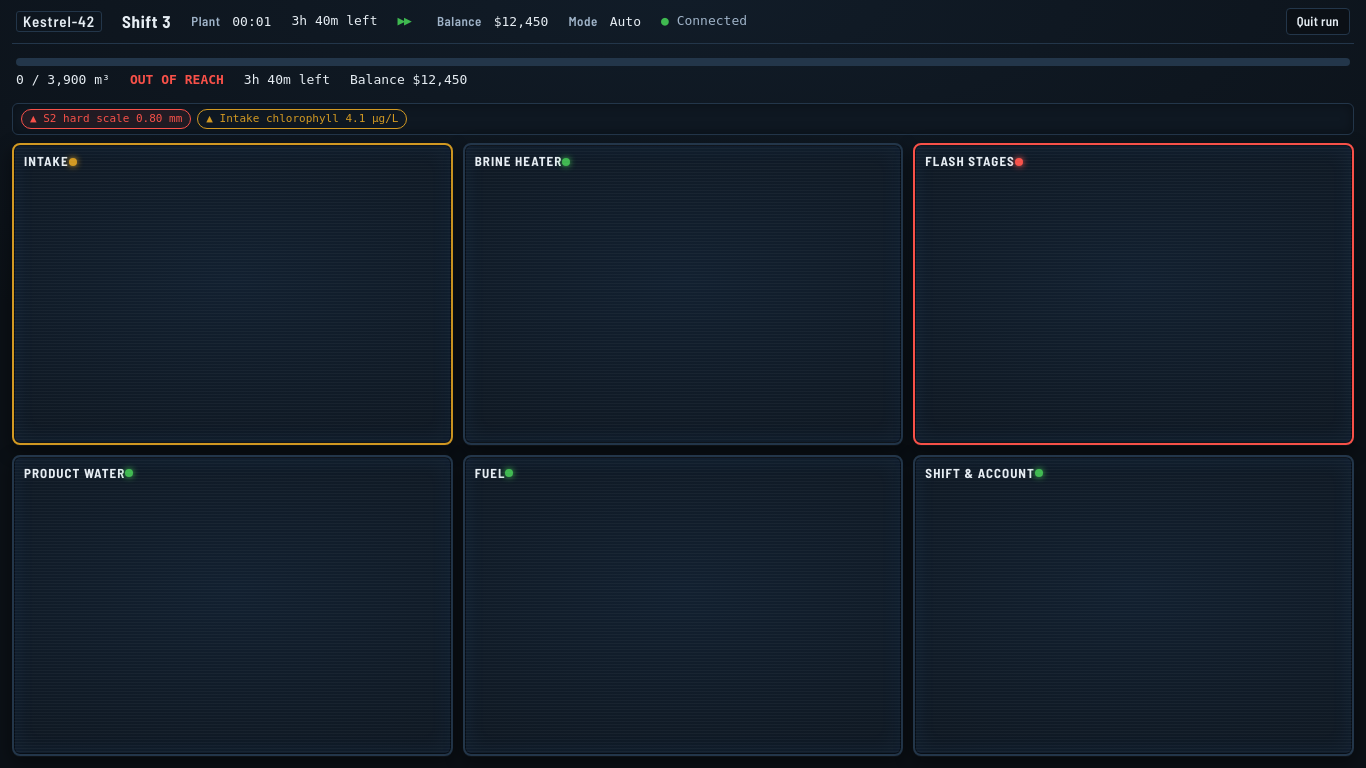
ControlRoom › quit asks for confirmation and sends quitGame once
Click the button "Quit run". click: (1318, 21)
box: [1286,8,1350,35]
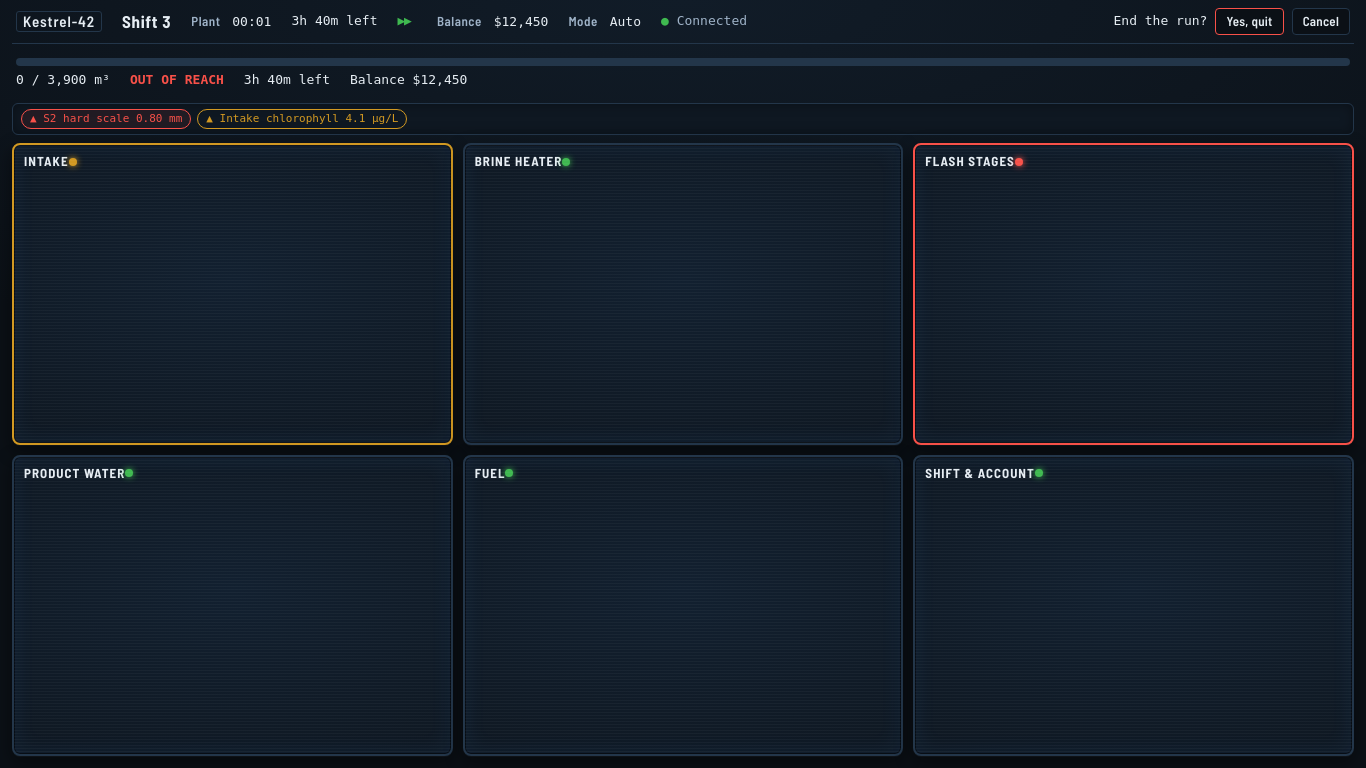
Click the button "Cancel". click: (1321, 21)
box: [1292,8,1350,35]
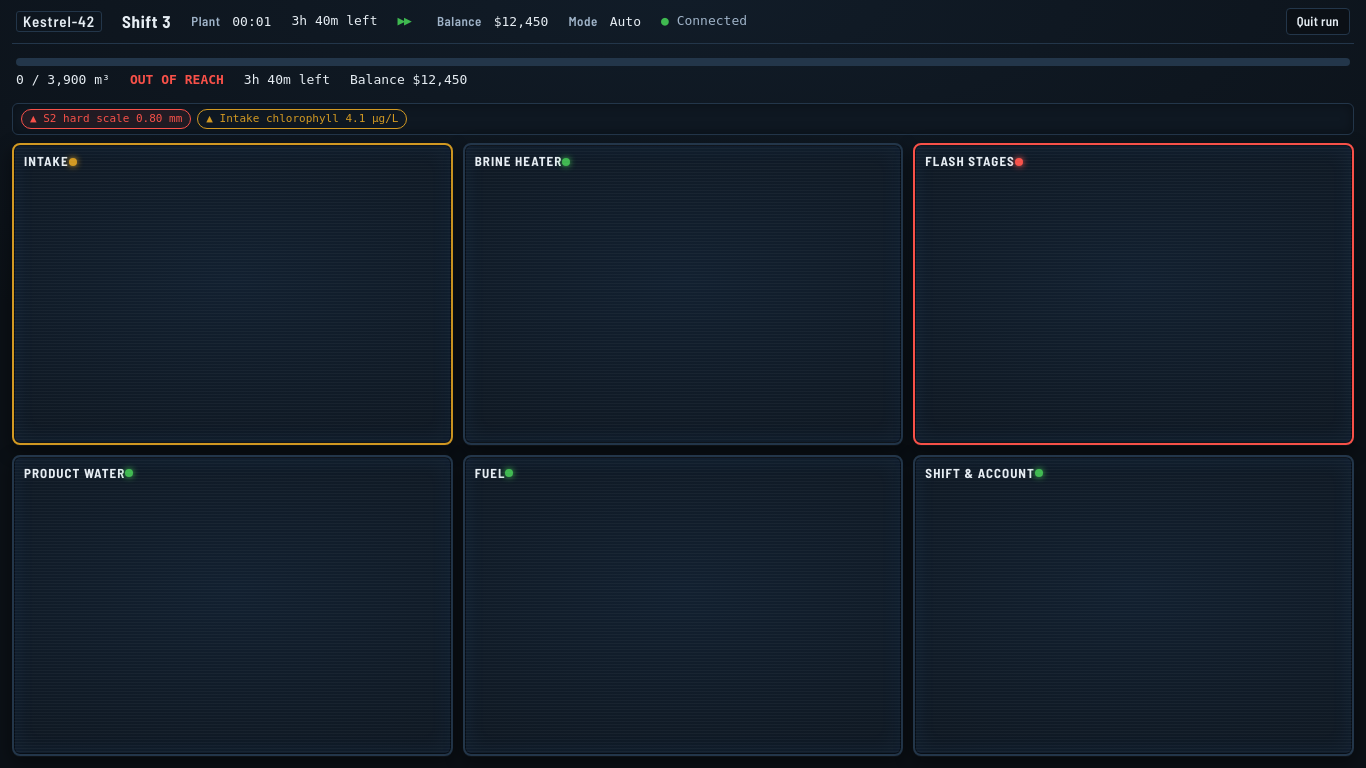
Click the button "Quit run". click: (1318, 21)
box: [1286,8,1350,35]
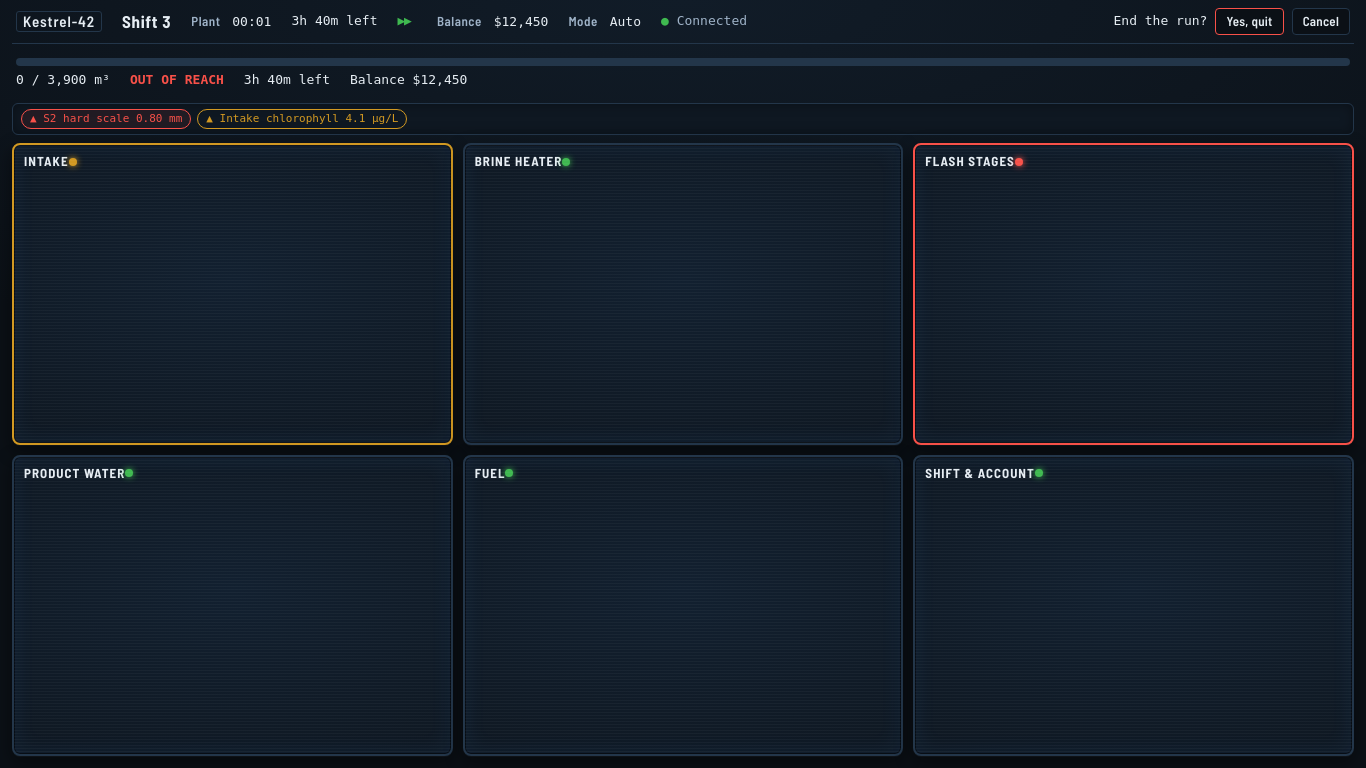
Click the button "Yes, quit". click: (1250, 21)
box: [1215,8,1284,35]
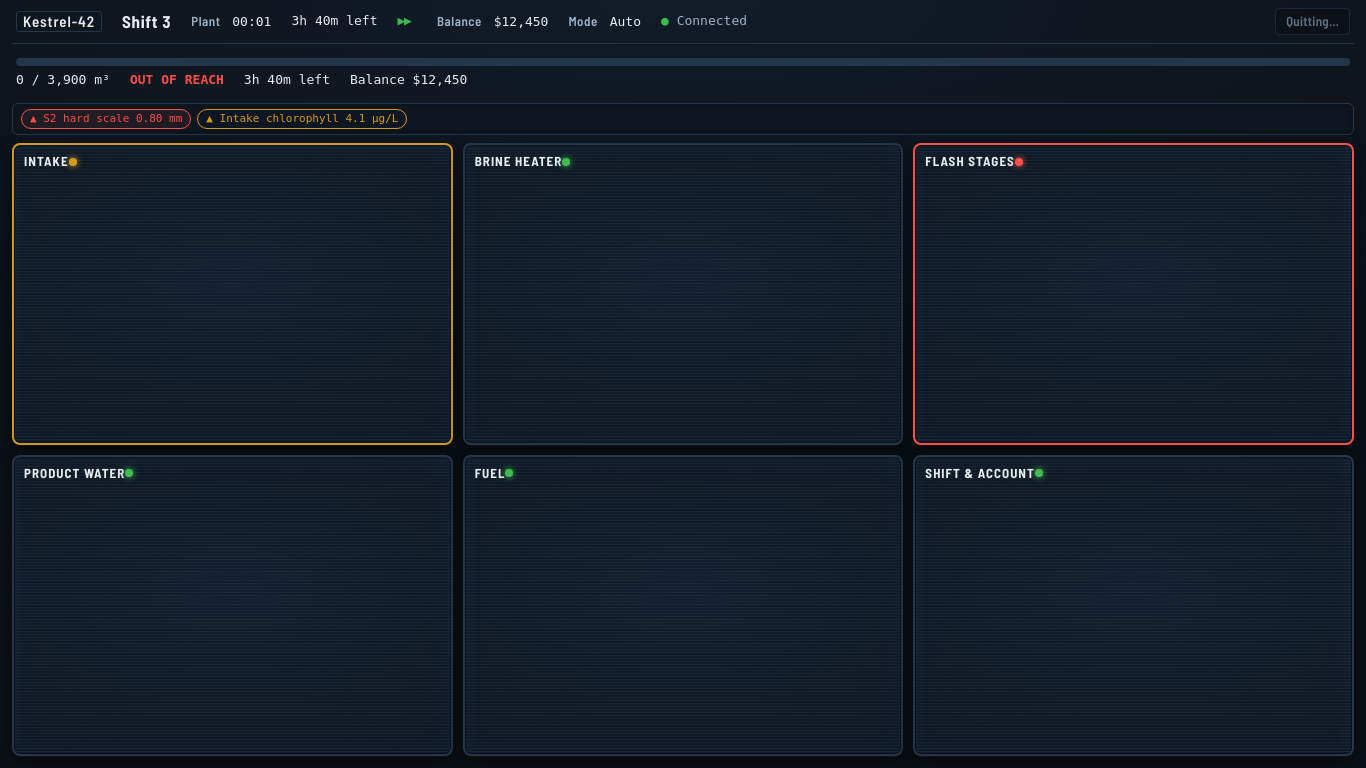
Expected: the button "Yes, quit" is gone
Expected: the button "Quitting…" is disabled, [1275,8,1350,35]
